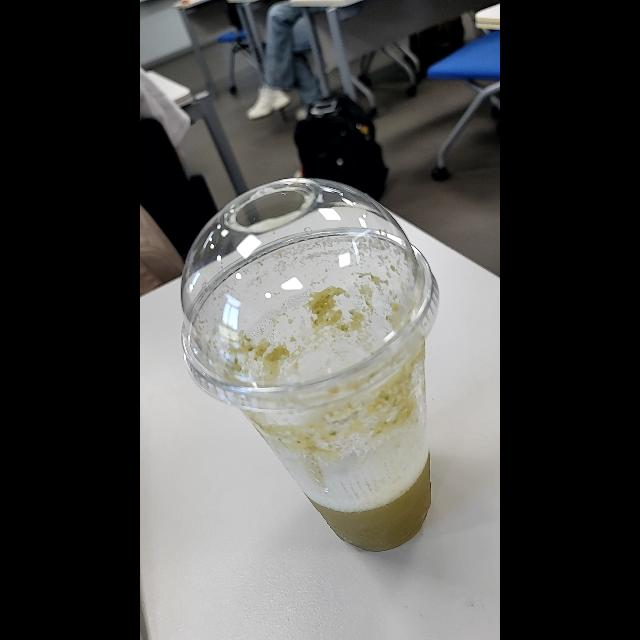plastic_cup: (174, 178, 443, 556)
plastic_cup_lid: (172, 175, 444, 412)
